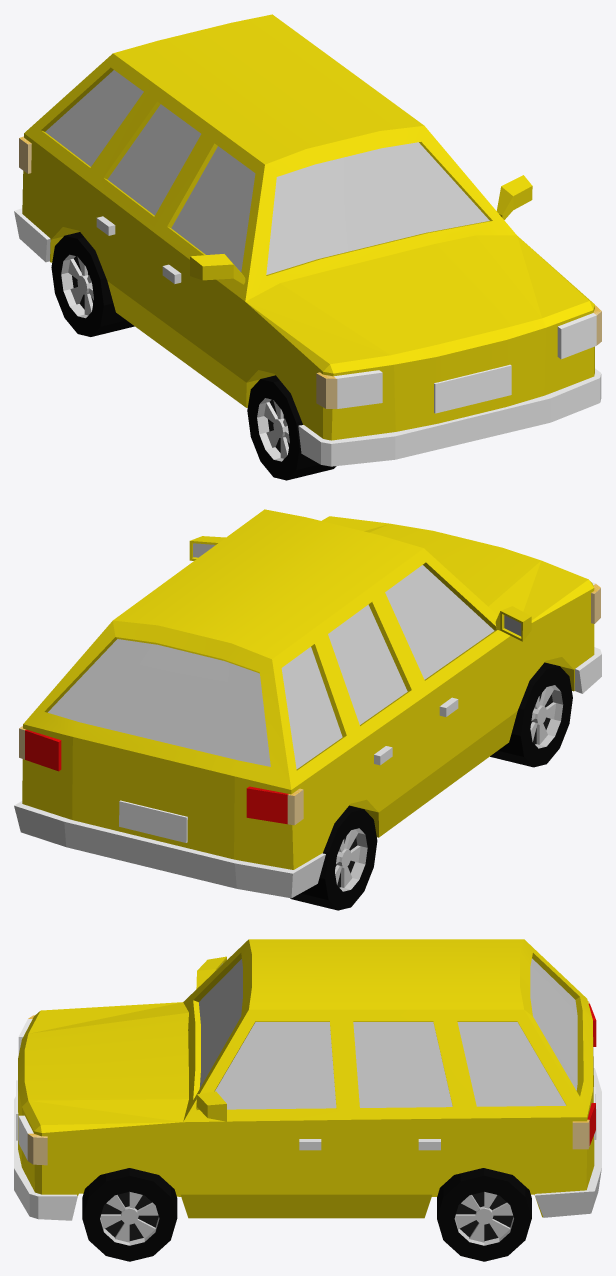
File: Car-03-D.fbx
The picture shows the model from 3 angles, top to bottom: view 1: azimuth 30°, elevation 25°; view 2: azimuth 150°, elevation 25°; view 3: azimuth 270°, elevation 25°; orthographic projection. The views are drawn at different scales.
Visible parts, largest first — view 1: Car-03, BR, FR, High-Beam, Light-Right; view 2: Car-03, FR, BR, Break-Light, Light-Right; view 3: Car-03, FL, BL, Light-Left, High-Beam.
Part boxes in pixels (box(x1,y1,x2,y2)): Car-03: box(14, 14, 601, 466); BR: box(51, 232, 134, 336); FR: box(247, 375, 336, 480); High-Beam: box(334, 313, 596, 408); Light-Right: box(19, 136, 337, 408); Car-03: box(14, 509, 601, 898); FR: box(490, 662, 572, 767); BR: box(290, 805, 377, 910); Break-Light: box(25, 730, 287, 824); Light-Right: box(287, 584, 600, 825); Car-03: box(14, 939, 601, 1220); FL: box(82, 1168, 177, 1261); BL: box(437, 1168, 531, 1261); Light-Left: box(27, 1120, 589, 1165); High-Beam: box(18, 1019, 33, 1160).
Bounding box in the file's own units: 2.45 × 1.79 × 4.14.
